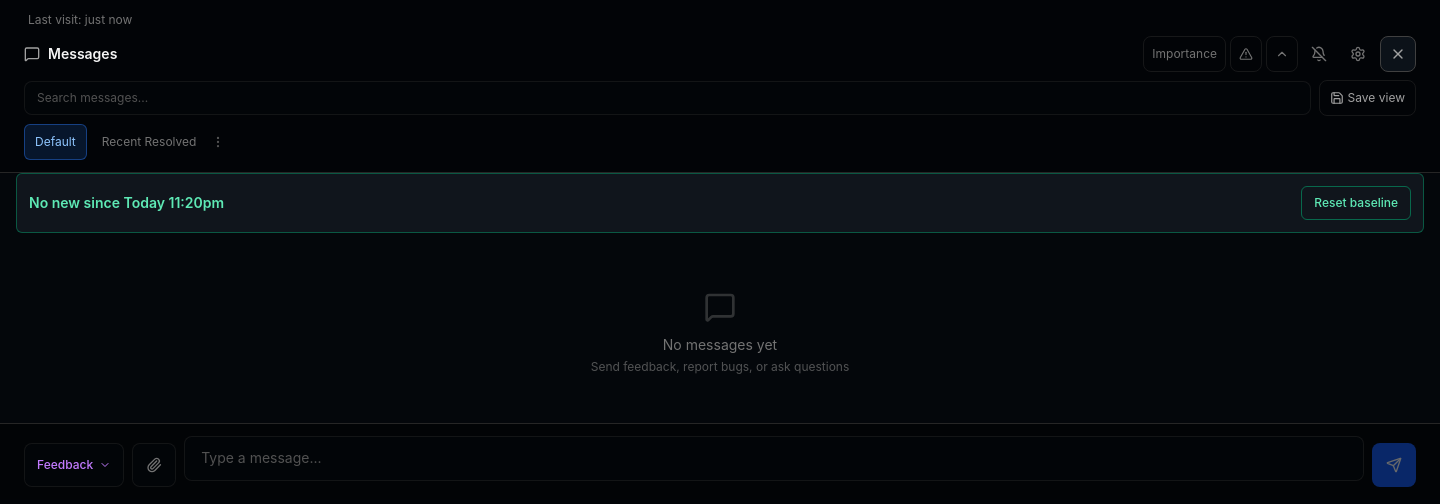
Test: MessagesPanel saved views › applying a saved view updates query, sort, and showResolved together
Click the button "Recent Resolved". click: (149,142)
box: [91, 124, 208, 160]
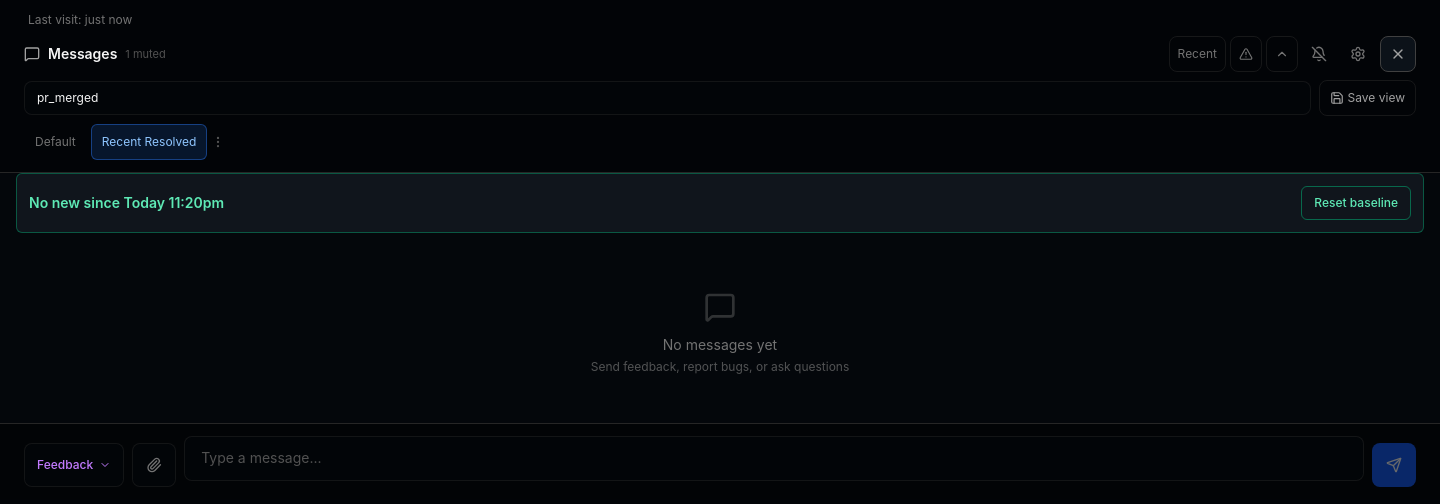
Check: the field with placeholder "Search messages..." holds "pr_merged", box [24, 81, 1311, 115]
Check: the button "Recent" is shown, box [1169, 36, 1226, 72]
